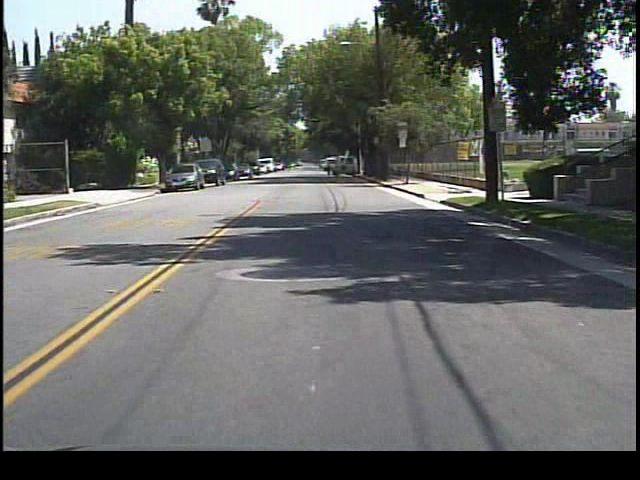person: (321, 158, 336, 183)
